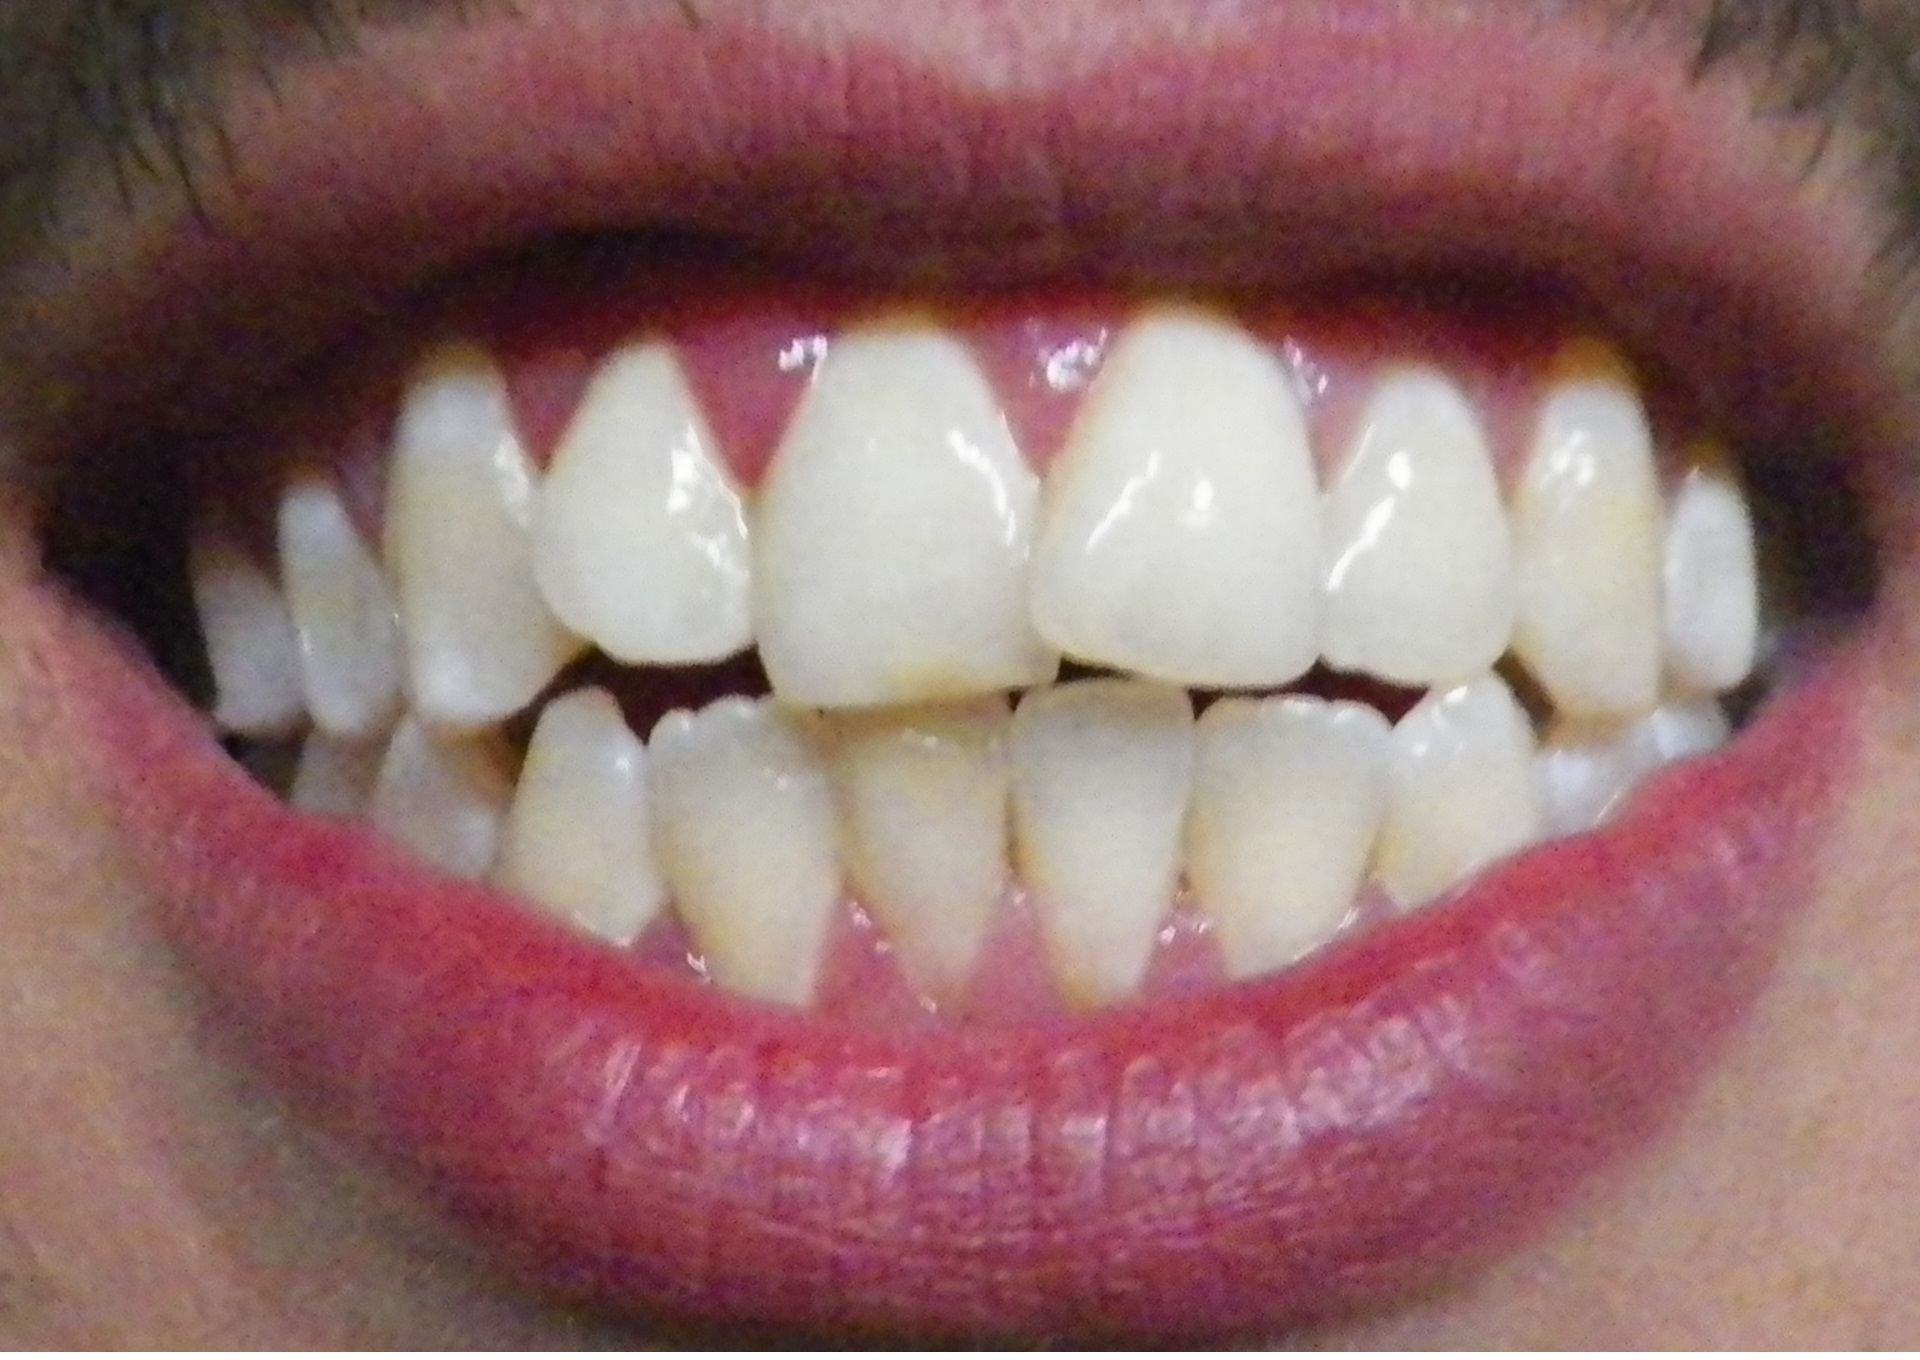boca: (200, 302, 1777, 1007)
